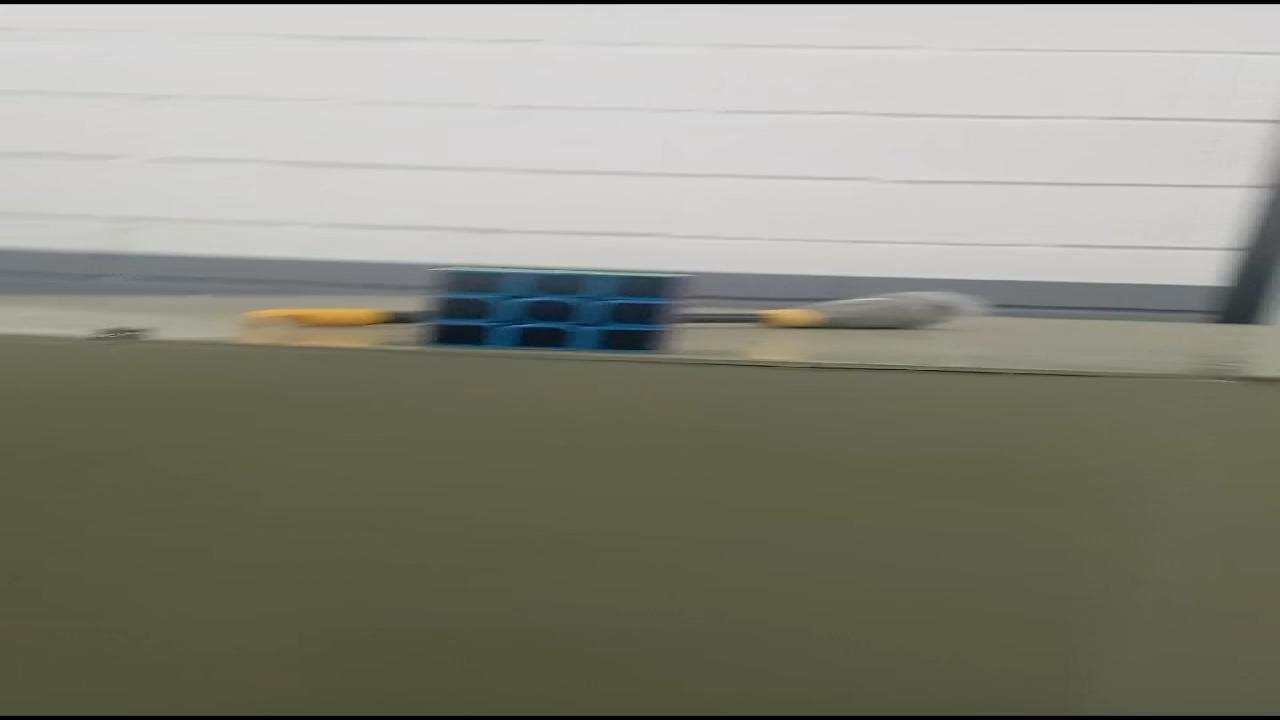Cube: (419, 265, 693, 354)
